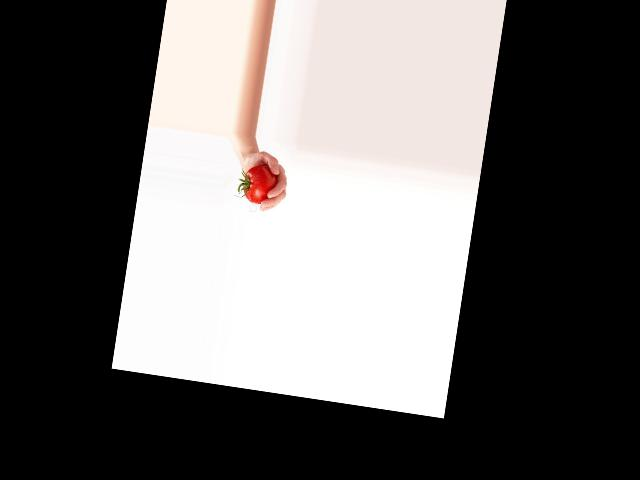tomato: (241, 163, 279, 206)
